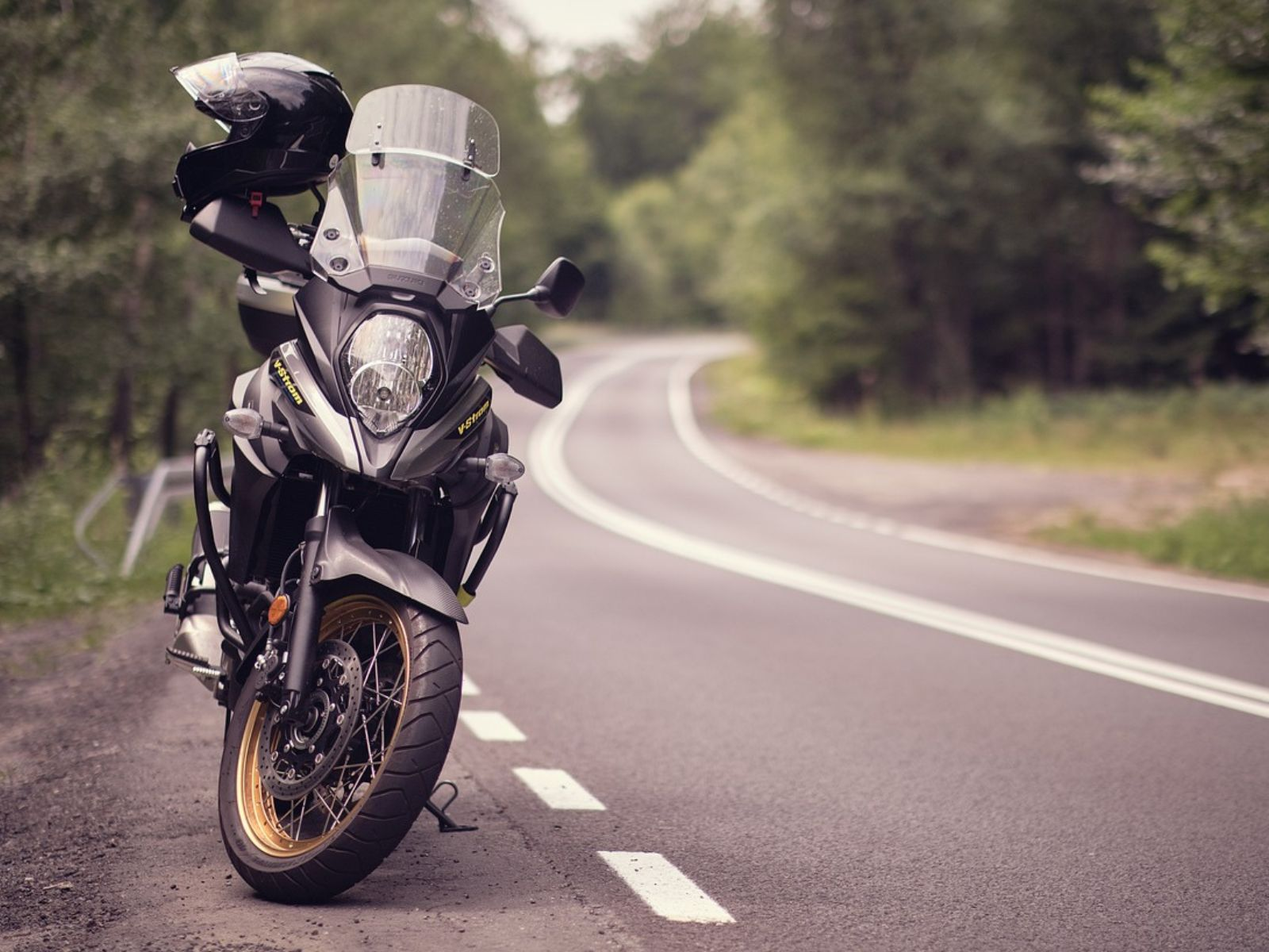Motorcycle: (165, 62, 588, 916)
